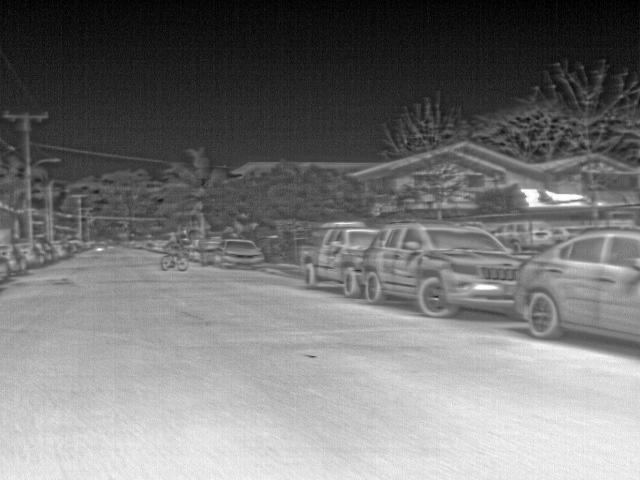car: (362, 219, 525, 317), (515, 229, 640, 344), (297, 225, 383, 296), (493, 218, 555, 254), (214, 237, 266, 270), (1, 242, 29, 276), (15, 241, 46, 269), (554, 225, 586, 247), (199, 236, 222, 266), (52, 237, 74, 259), (40, 238, 56, 264), (189, 237, 202, 260), (70, 237, 86, 253), (149, 238, 163, 252), (84, 239, 98, 251), (98, 238, 112, 250), (138, 238, 151, 250), (128, 239, 140, 250)
person: (163, 234, 181, 253)
